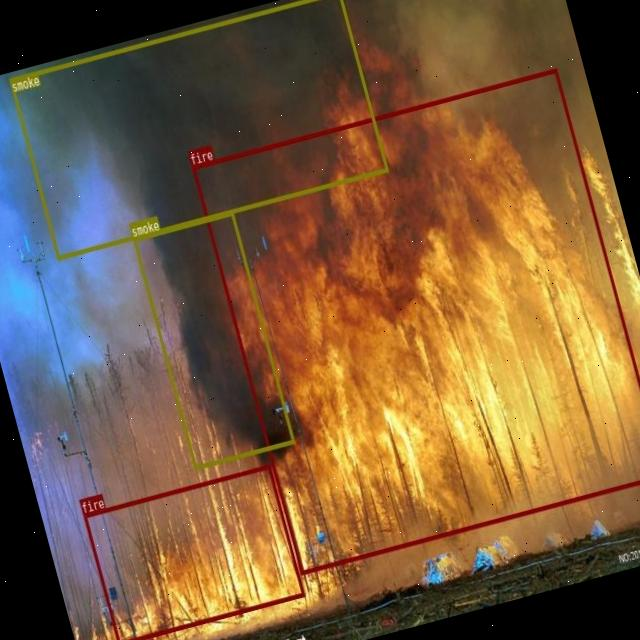fire: (190, 67, 640, 573), (82, 464, 305, 640)
smoke: (8, 0, 387, 259), (132, 212, 294, 469)
